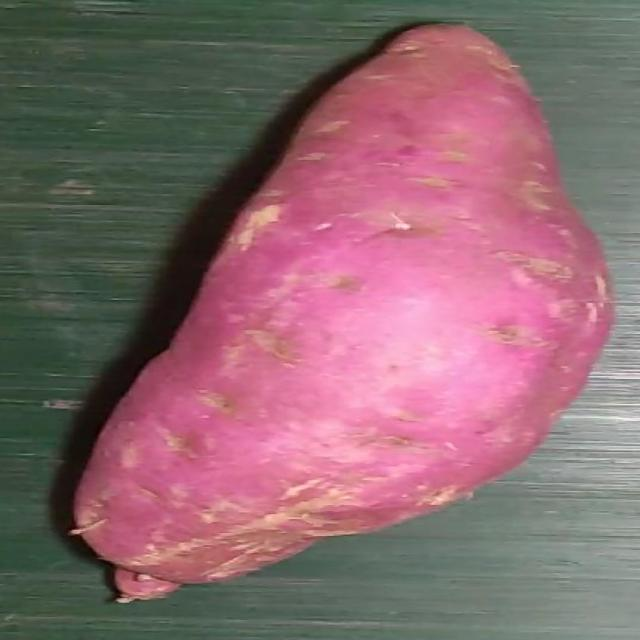Sweet Potato: (68, 22, 616, 600)
